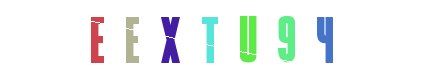4: (277, 0, 357, 80)
9: (227, 0, 307, 80)
E: (56, 0, 136, 80), (130, 0, 210, 80)
T: (170, 0, 250, 80)
U: (182, 0, 262, 80)
X: (134, 0, 214, 80)
